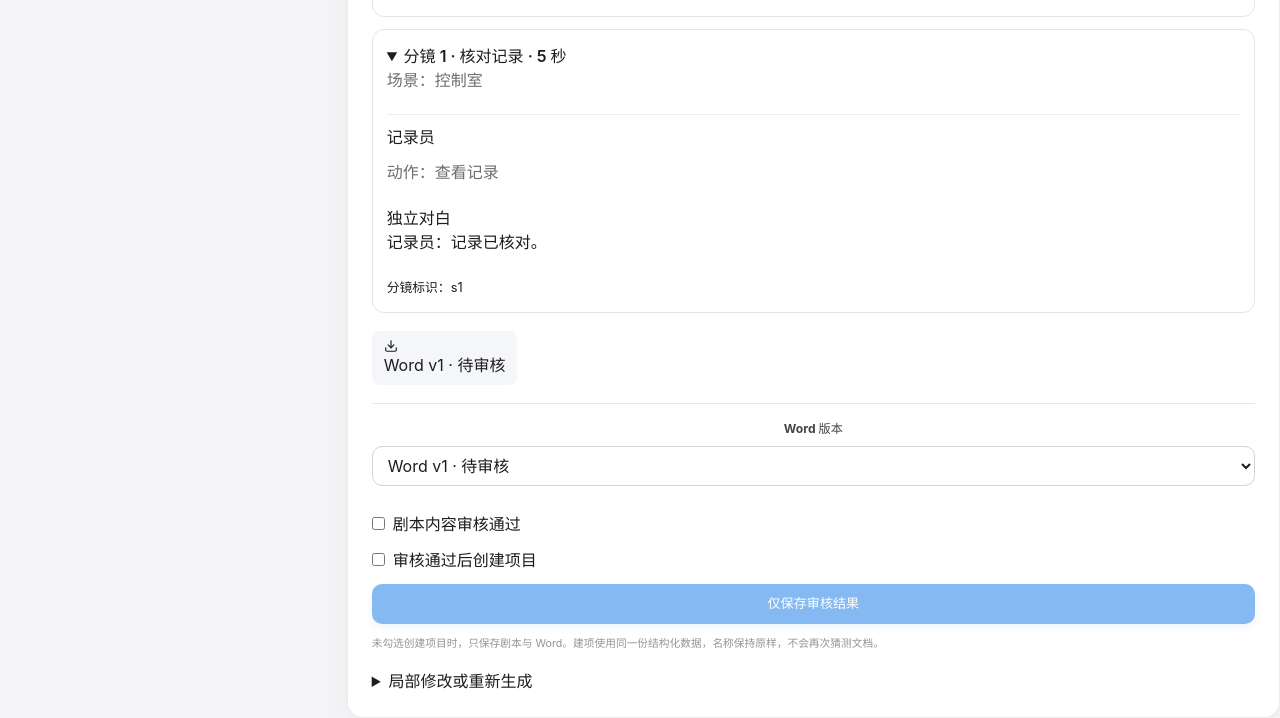
Scenario: requires explicit review and keeps project creation unchecked until the user chooses it
(page scrolled)
Expected: the checkbox labelled "审核通过后创建项目" is not checked, [372,554,385,566]
Expected: the button "仅保存审核结果" is disabled, [372,584,1255,624]
Click the checkbox labelled "剧本内容审核通过": (378, 524) [372,518,385,530]
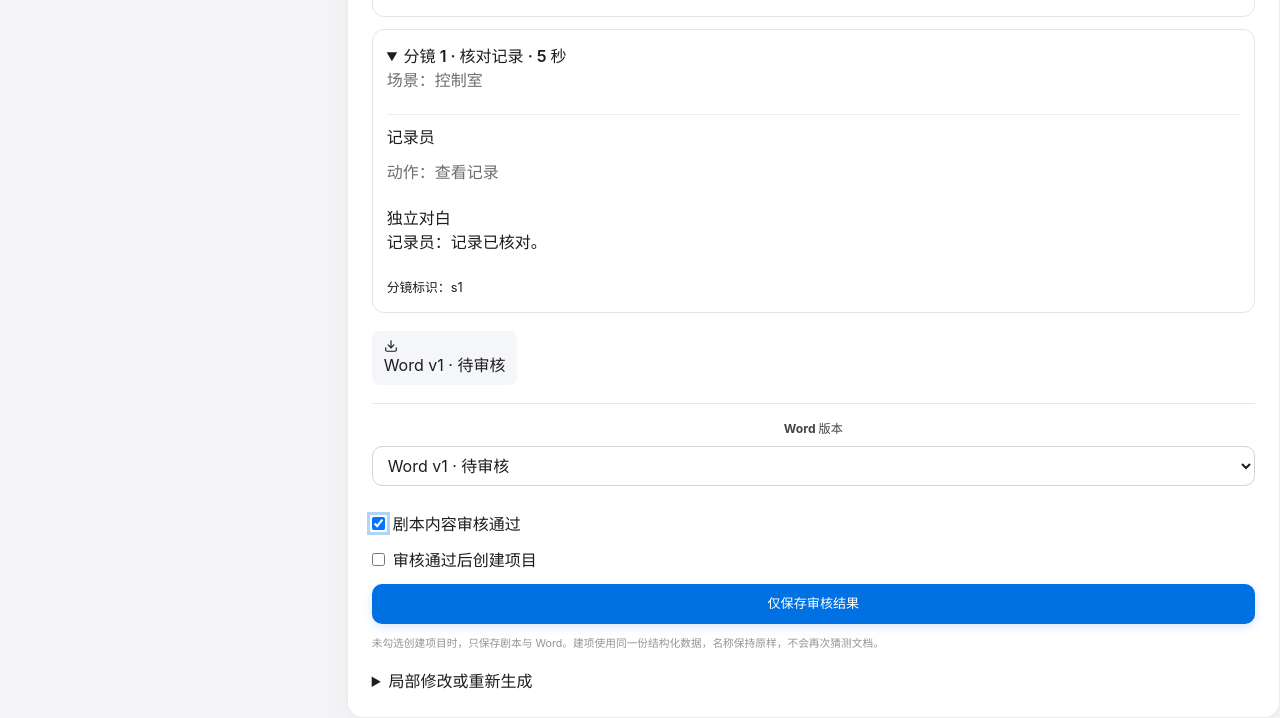
Click the button "仅保存审核结果": (813, 604) [372,584,1255,624]
(page scrolled)
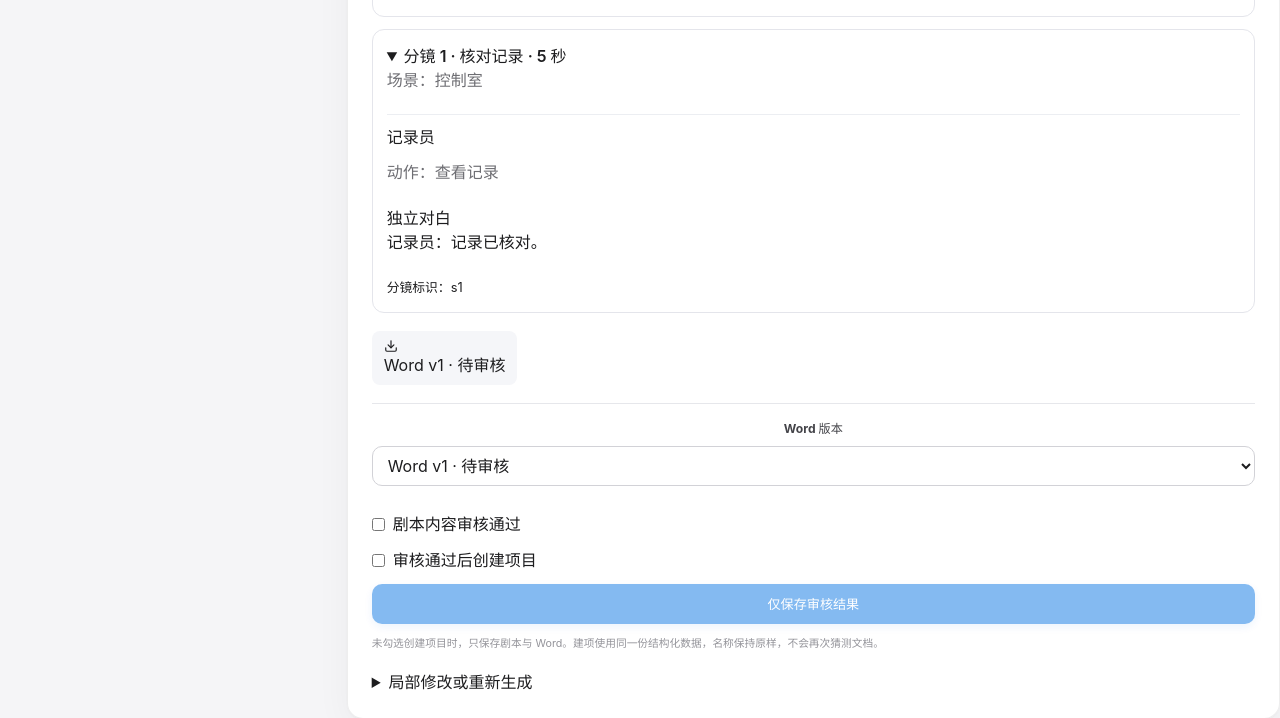
Click the checkbox labelled "剧本内容审核通过": (378, 524) [372,518,385,531]
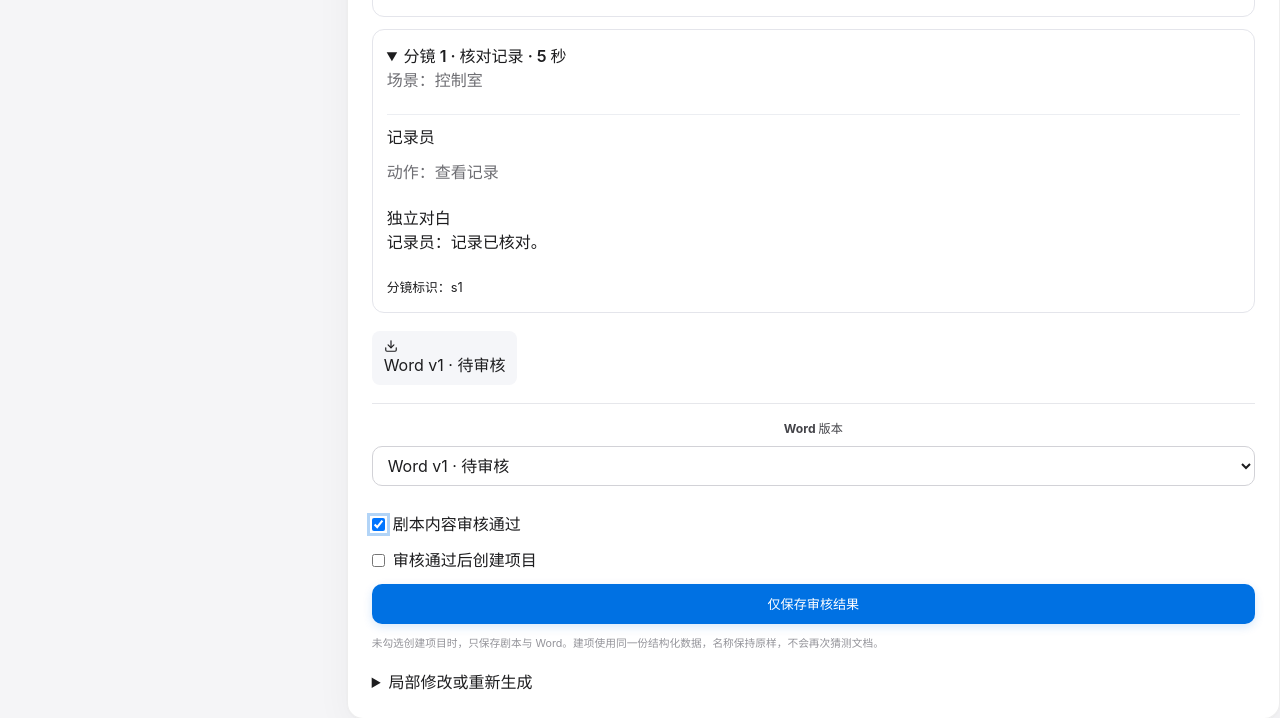
Click the checkbox labelled "审核通过后创建项目": (378, 560) [372,554,385,567]
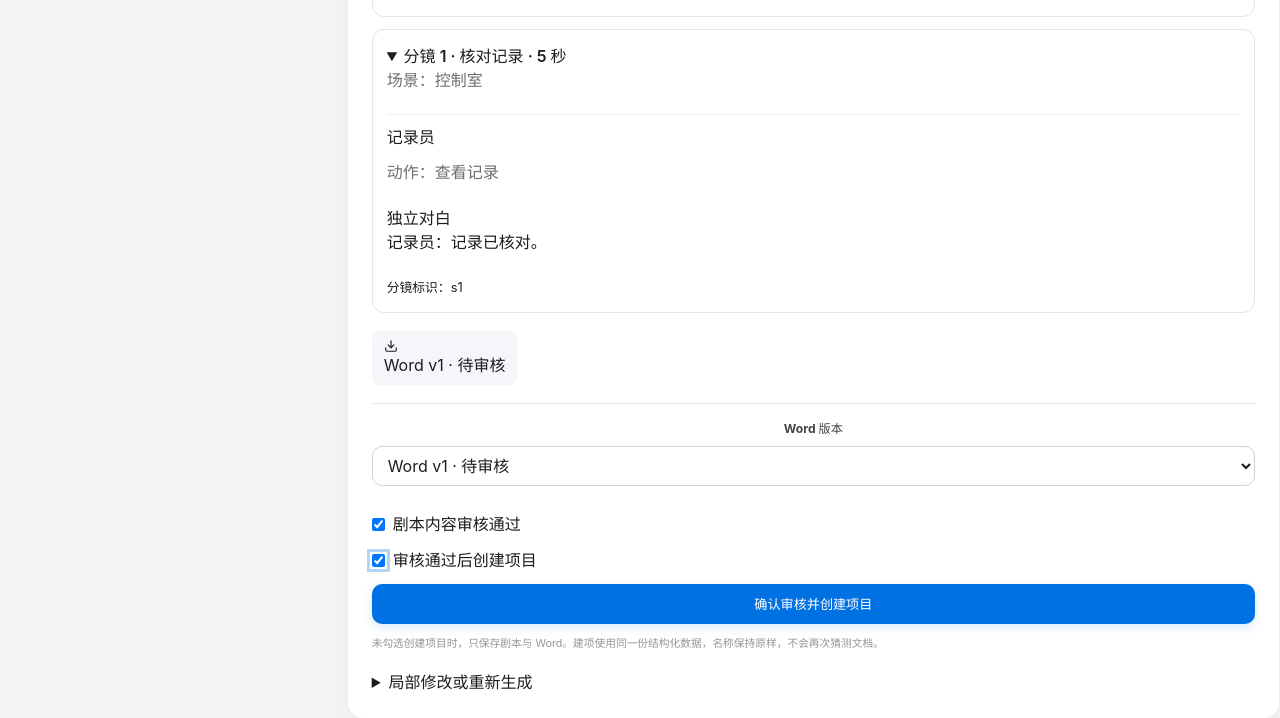
Click the button "确认审核并创建项目": (813, 604) [372,584,1255,624]
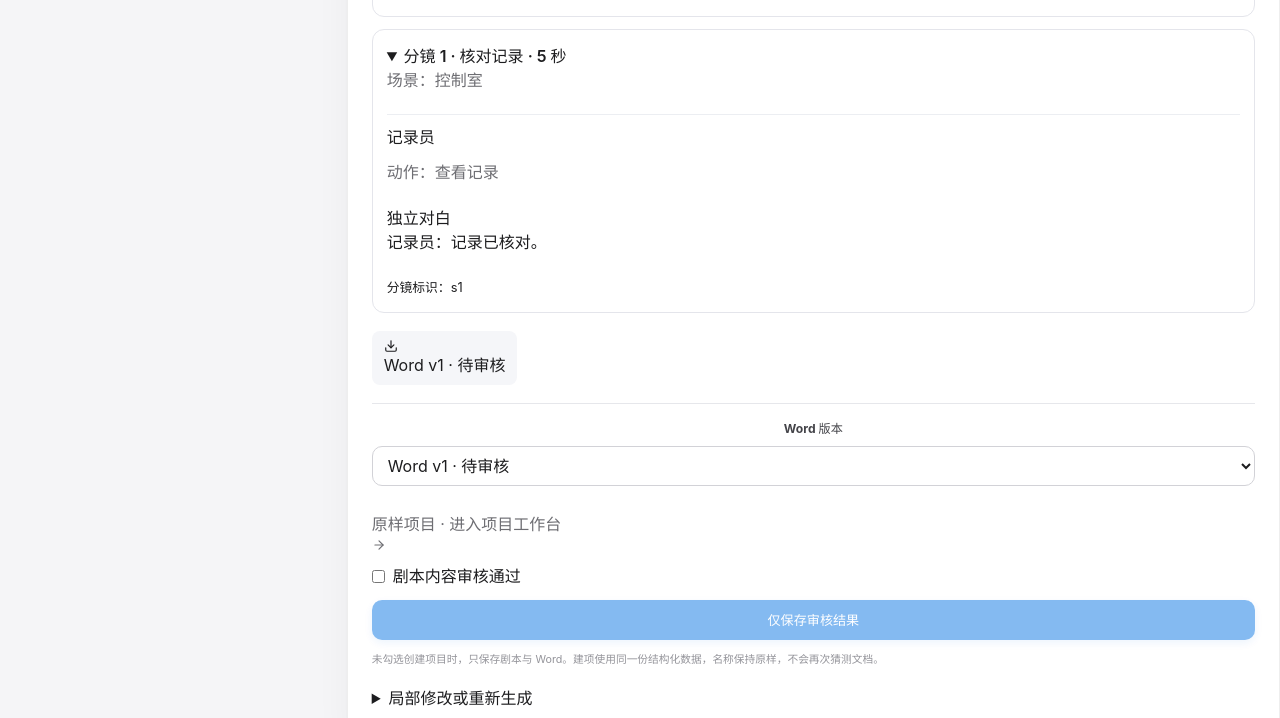
Result: the link "原样项目 · 进入项目工作台" is shown at [372,514,561,552]
Result: the button "确认审核并创建项目" is gone
